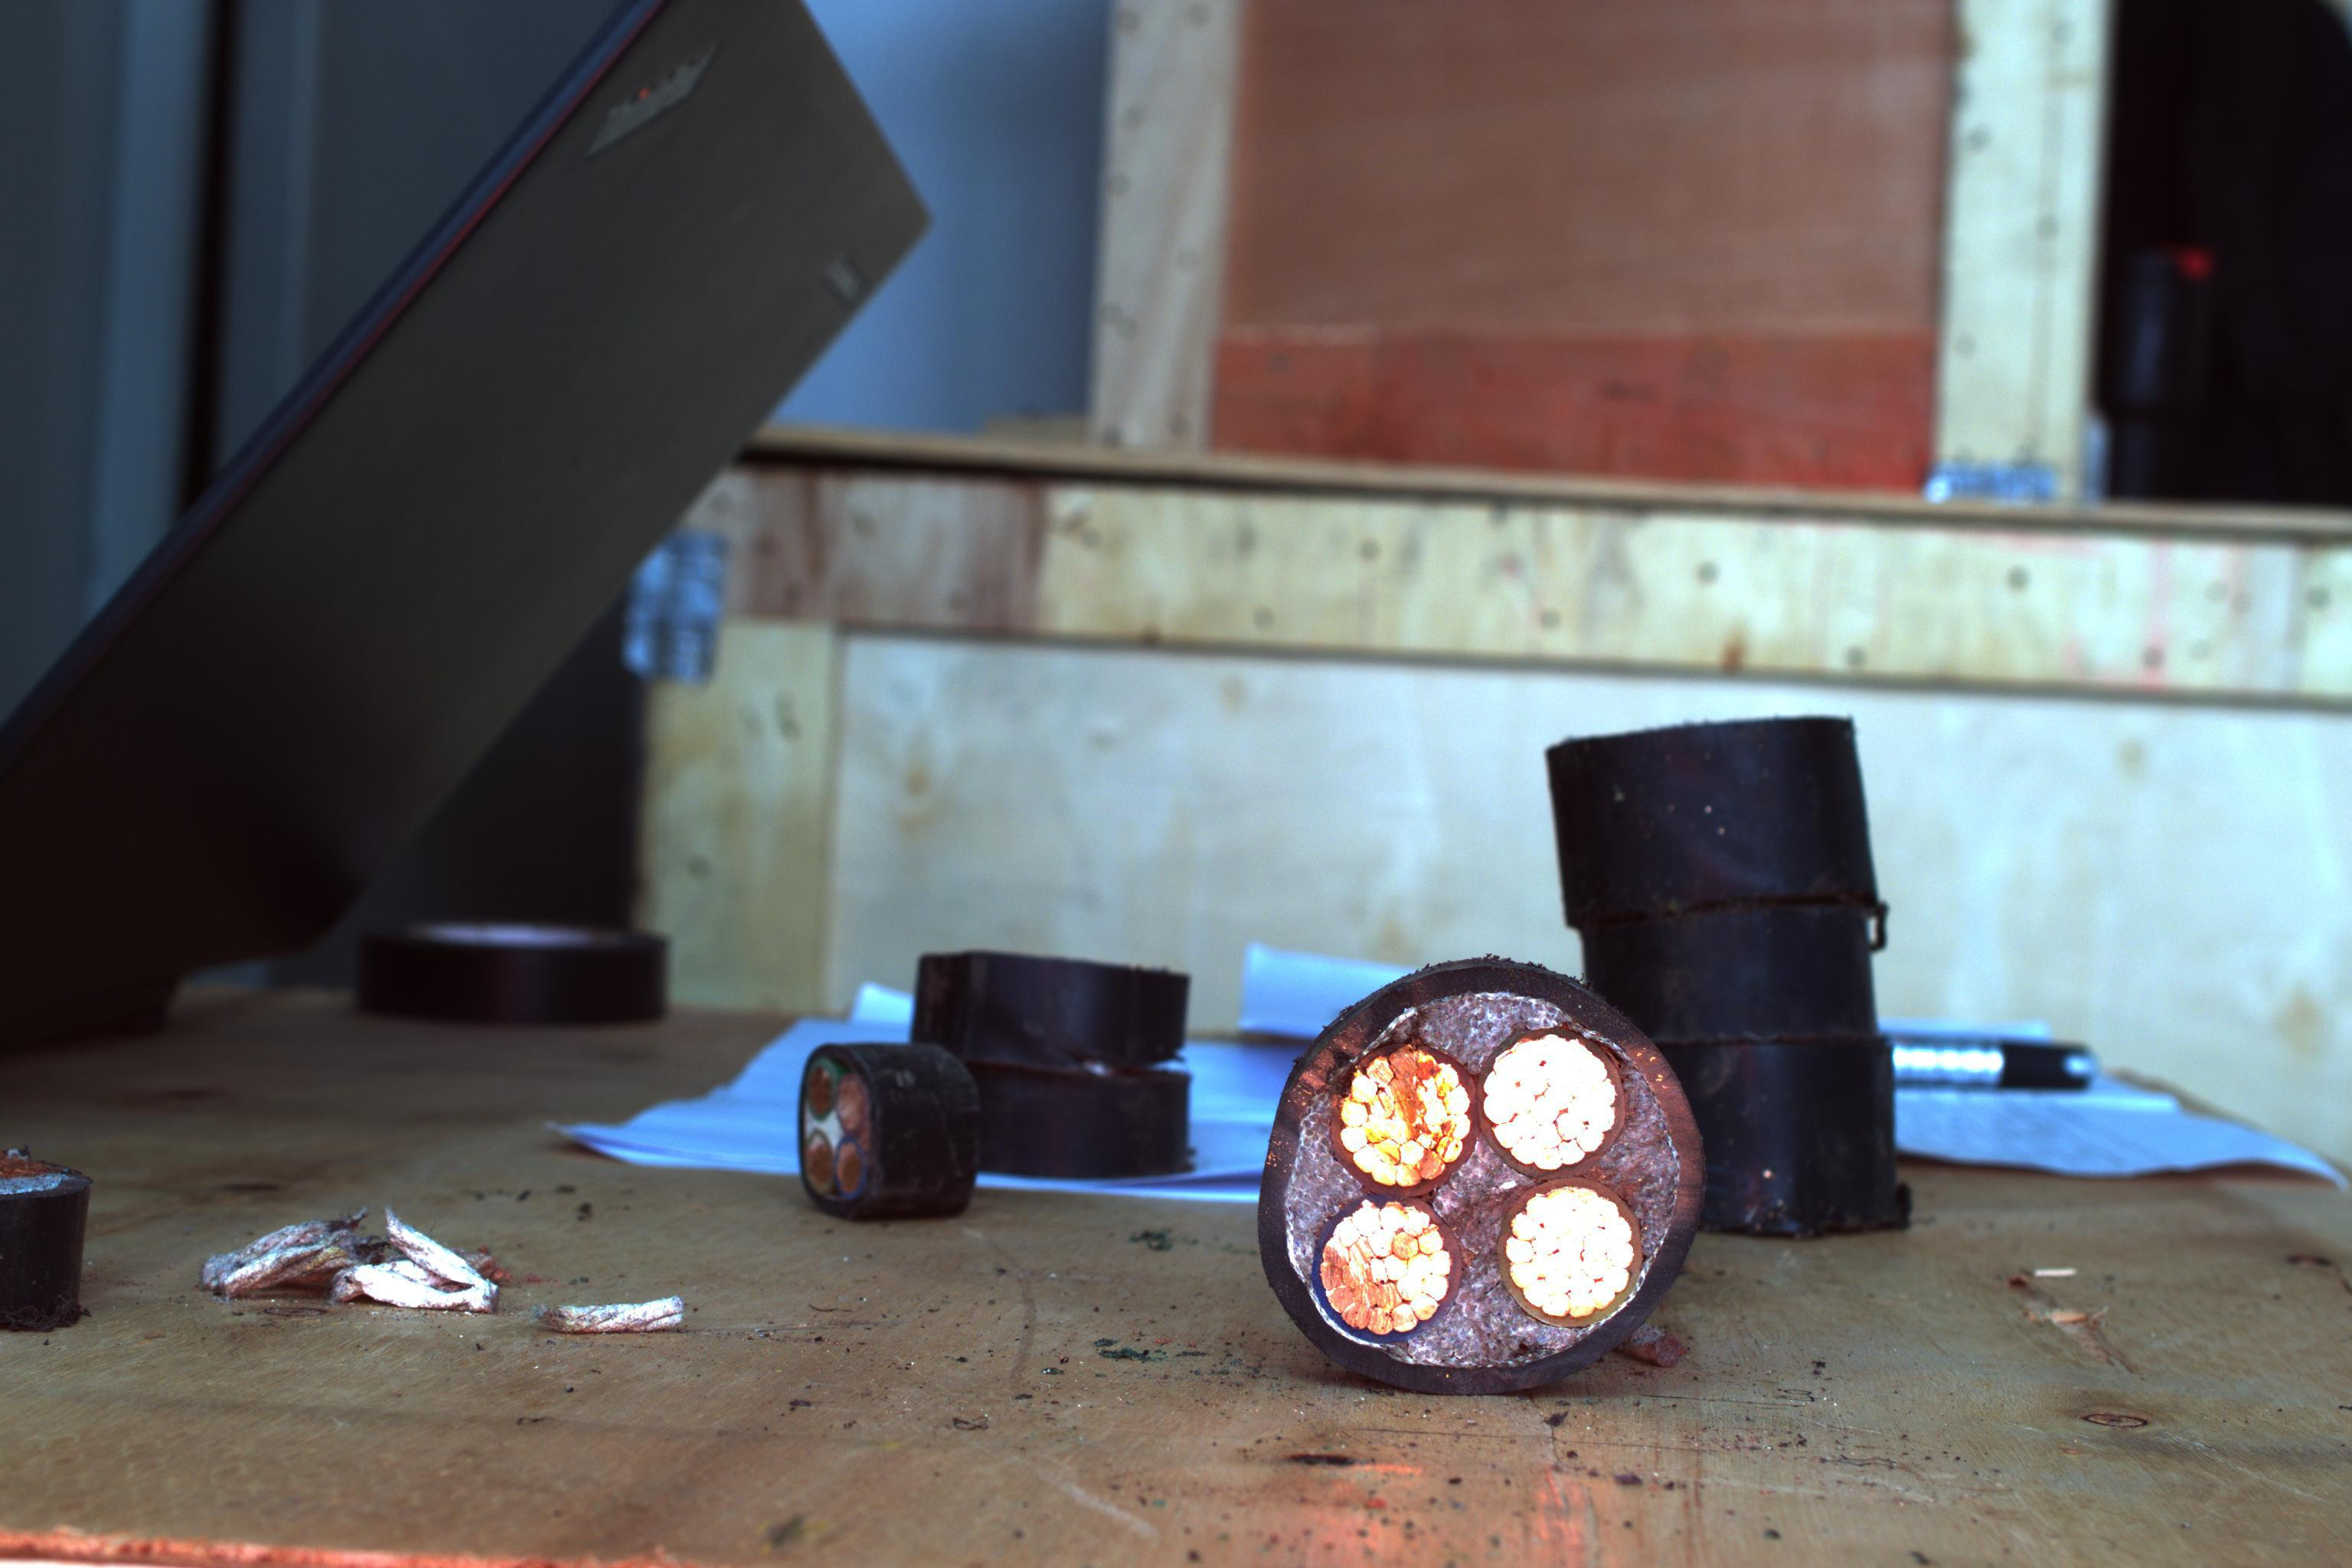YJV_0.6_1kV_4x120: (1265, 982, 1683, 1374)
